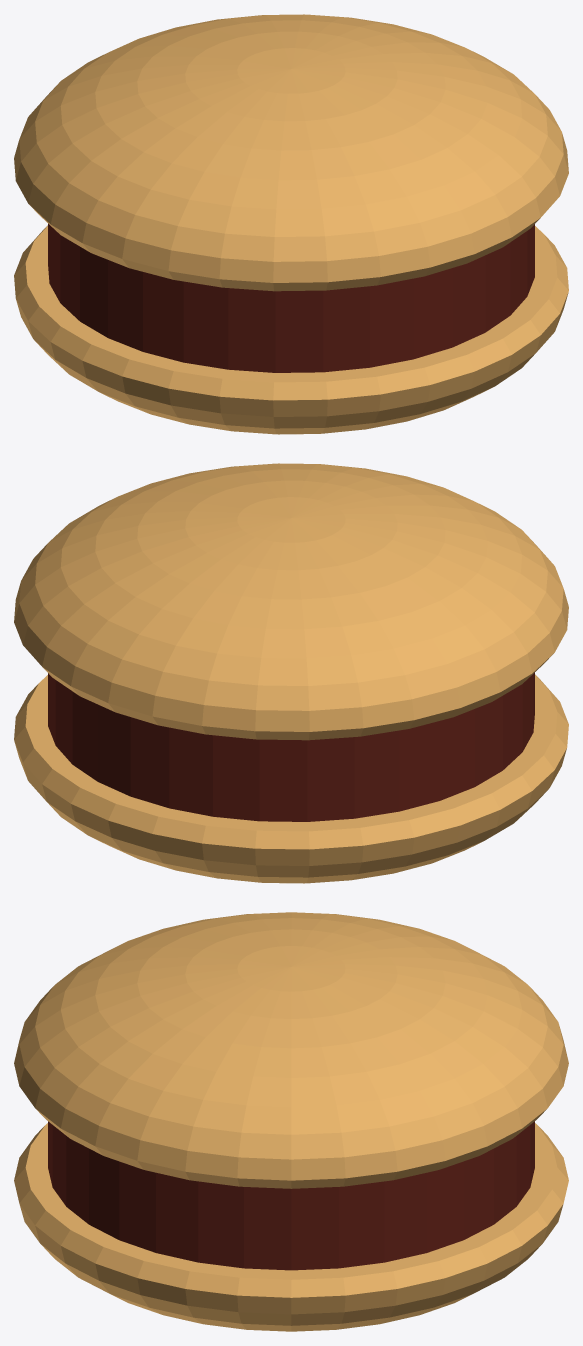
Rendered from burger.fbx.
3 renders of one model, top to bottom at view 1: azimuth 30°, elevation 25°; view 2: azimuth 150°, elevation 25°; view 3: azimuth 270°, elevation 25°, orthographic.
Parts seen in each view (by area): view 1: Sphere; view 2: Sphere; view 3: Sphere.
Part boxes in pixels (<box>): Sphere: <box>14,14,568,434</box>; Sphere: <box>14,463,568,883</box>; Sphere: <box>14,912,568,1331</box>.
Size of the model in its own units: 140 by 86.32 by 140.
